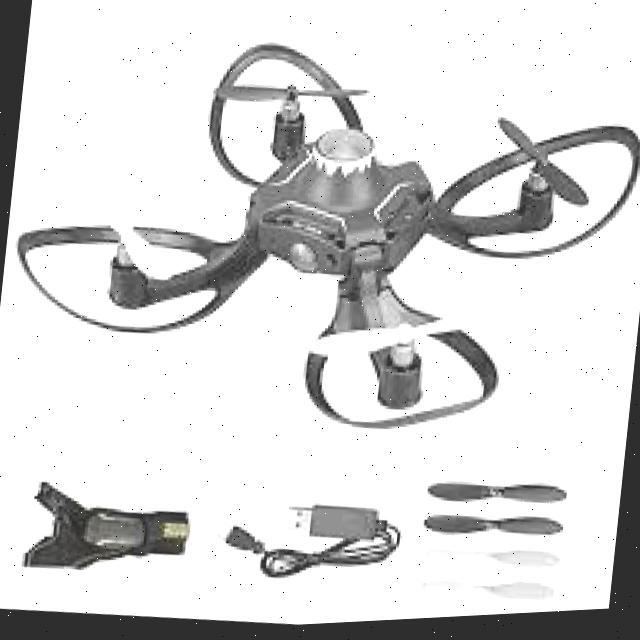drone: (0, 10, 640, 490)
